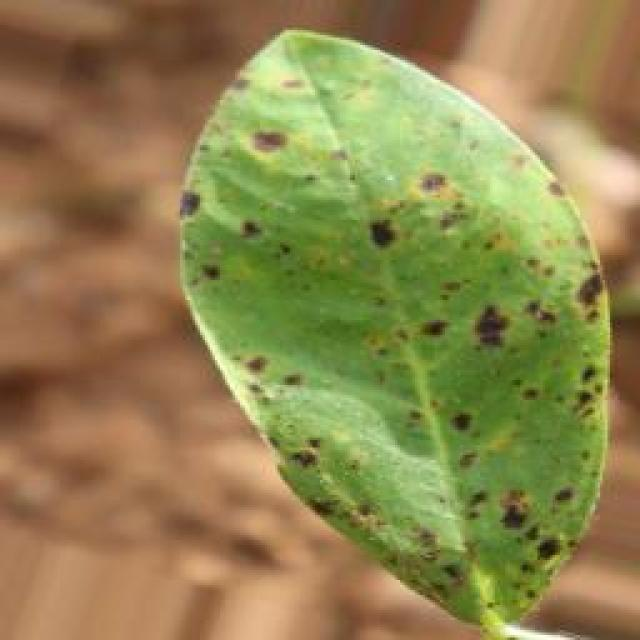Yellowish: (174, 32, 605, 622)
